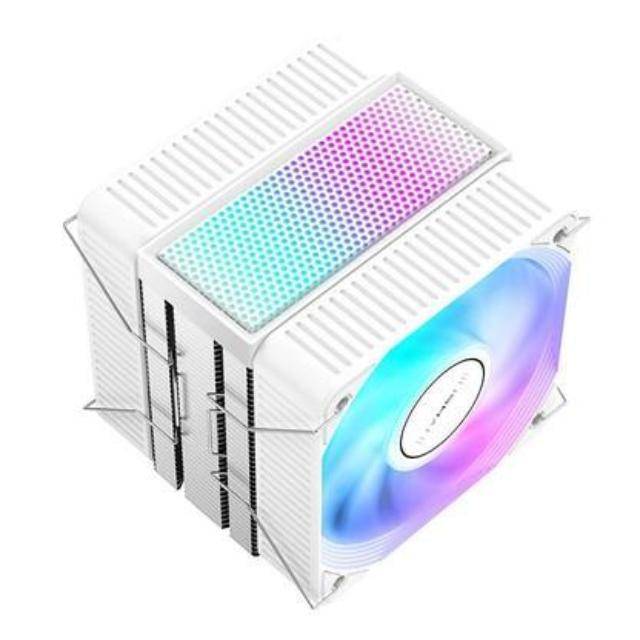CPU_Fan: (72, 35, 586, 610)
